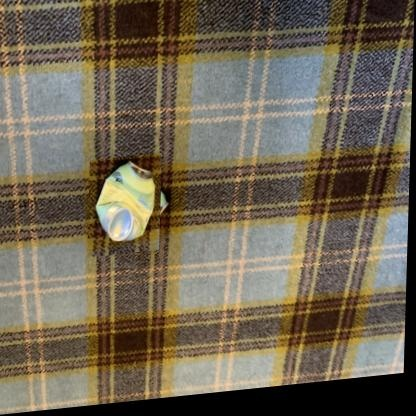trash: (96, 161, 154, 240)
